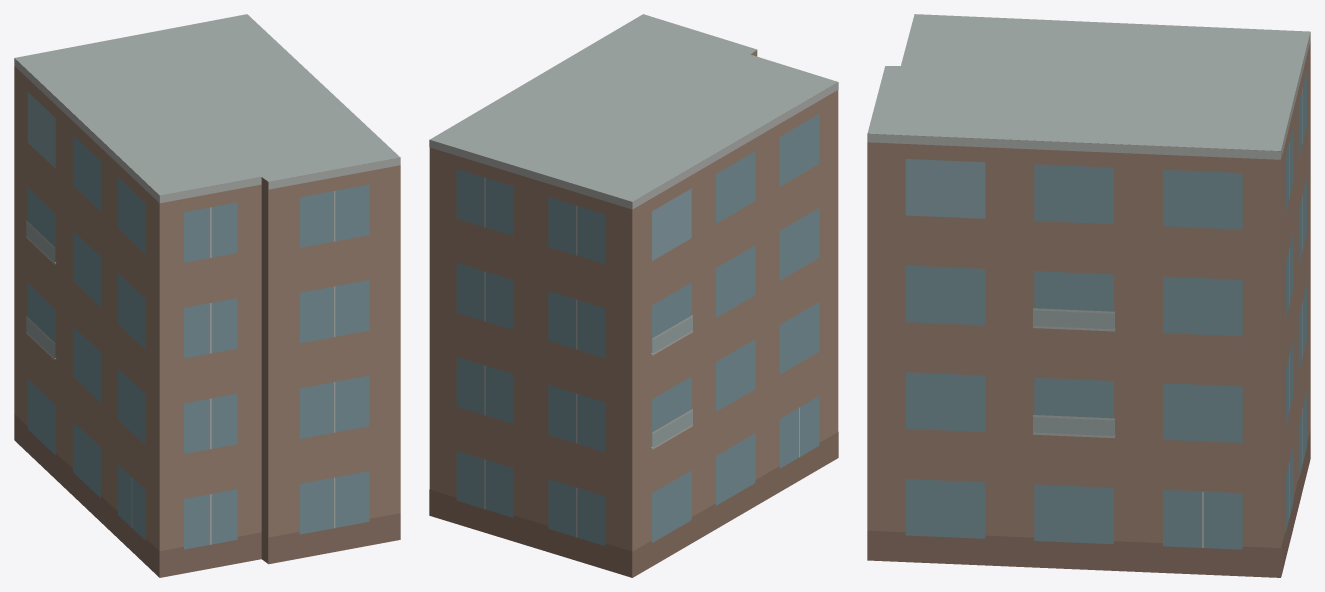
File: survey-upis-32874939.glb
The picture shows the model from 3 angles, left to right: view 1: azimuth 30°, elevation 25°; view 2: azimuth 150°, elevation 25°; view 3: azimuth 270°, elevation 25°; orthographic projection. The views are drawn at different scales.
Visible parts, largest first — view 1: survey-upis-32874939.tmp; view 2: survey-upis-32874939.tmp; view 3: survey-upis-32874939.tmp.
Part boxes in pixels (x1,y1,x2,y2): survey-upis-32874939.tmp: (14, 14, 400, 577); survey-upis-32874939.tmp: (429, 14, 838, 577); survey-upis-32874939.tmp: (867, 14, 1310, 577).
Size of the model in its own units: 8.28 by 12 by 11.31.
